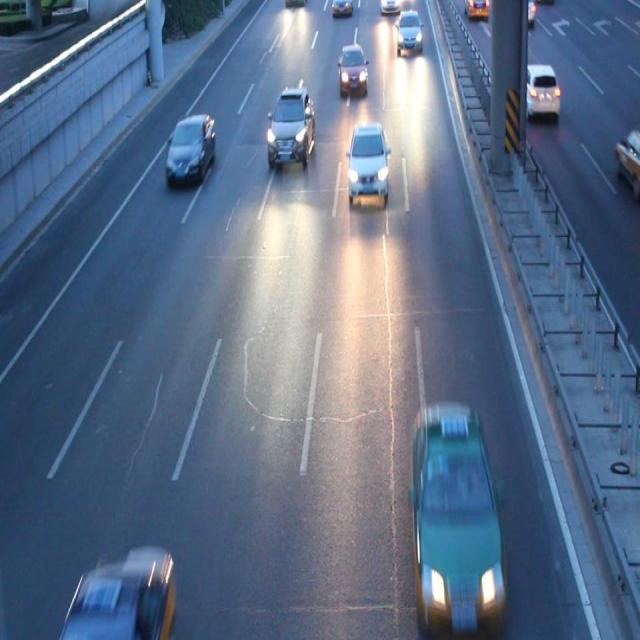car: (408, 405, 507, 613), (68, 550, 170, 640), (267, 86, 314, 170), (166, 113, 215, 184), (346, 124, 389, 204), (336, 43, 368, 97), (394, 10, 423, 55)
